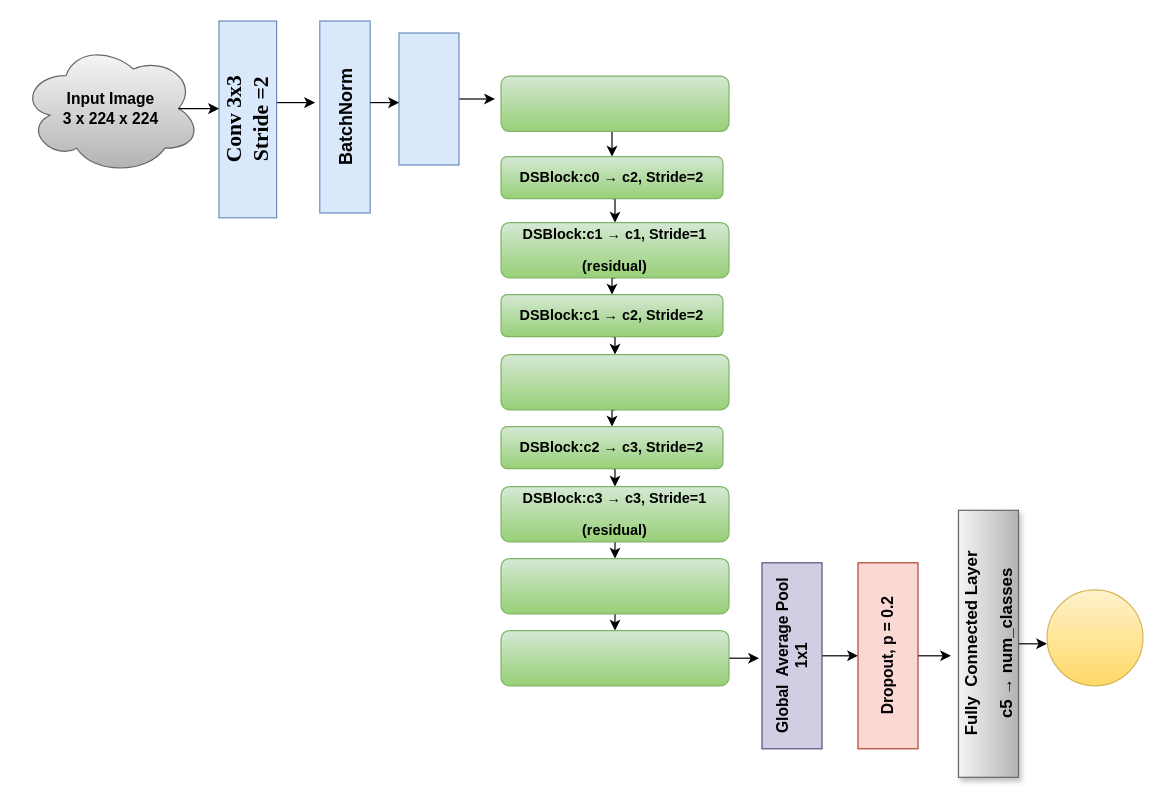
Image size: 1164x806. Some labels were removed from this diagram. Here are the shapes that lost their labels. From the top down, the centre of each, then its label:
At (x=428, y=98): "SiLU".
At (x=614, y=103): "DSBlock:c0 → c1, Stride=1 (residual)".
At (x=614, y=381): "DSBlock:c2 → c2, Stride=1 (residual)".
At (x=614, y=585): "DSBlock:c3 → c4, Stride=1 (residual)".
At (x=614, y=657): "DSBlock:c4 → c5, Stride=1 (residual)".
At (x=1094, y=637): "Output".
